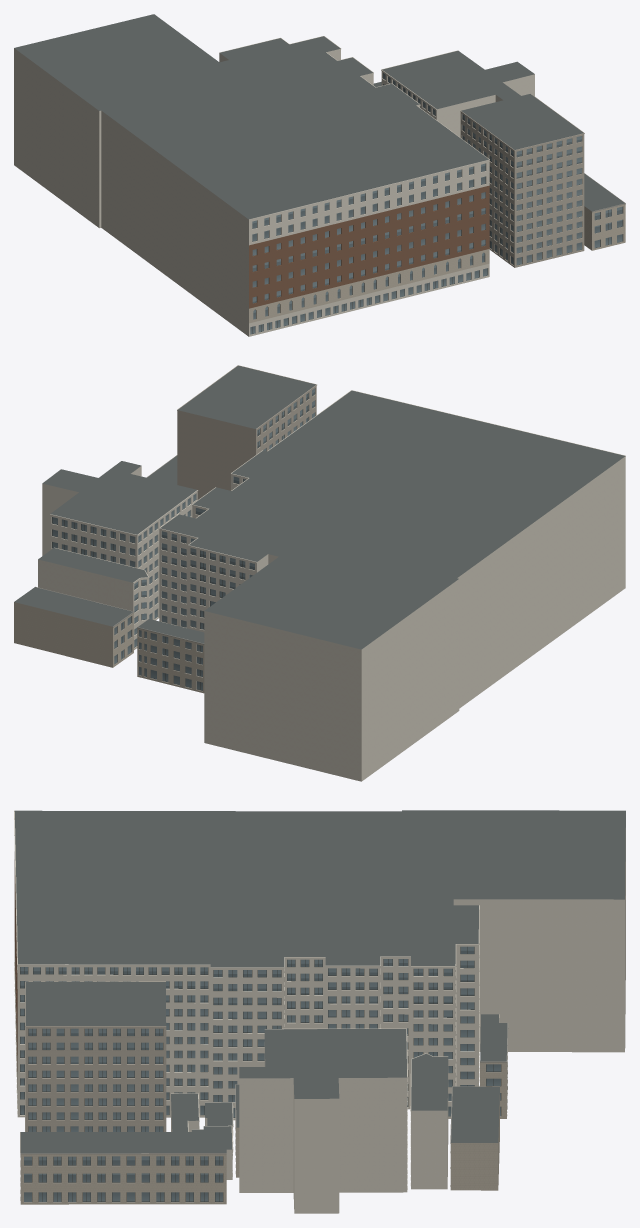
File: near.gltf
The picture shows the model from 3 angles, top to bottom: view 1: azimuth 30°, elevation 25°; view 2: azimuth 150°, elevation 25°; view 3: azimuth 270°, elevation 25°; orthographic projection. The views are drawn at different scales.
Visible parts, largest first — view 1: cell-e002-n000_near_roof, cell-e002-n000_near_plaster, cell-e002-n000_near_daimaru-brown-tile, cell-e002-n000_near_glass, cell-e002-n000_near_tile-wall, cell-e002-n000_near_stone, cell-e002-n000_near_frame; view 2: cell-e002-n000_near_roof, cell-e002-n000_near_plaster, cell-e002-n000_near_stone, cell-e002-n000_near_glass, cell-e002-n000_near_tile-wall, cell-e002-n000_near_frame, cell-e002-n000_near_granite; view 3: cell-e002-n000_near_roof, cell-e002-n000_near_plaster, cell-e002-n000_near_glass, cell-e002-n000_near_tile-wall, cell-e002-n000_near_stone, cell-e002-n000_near_frame, cell-e002-n000_near_granite.
Boxes of the visible parts, x1,y1,x2,y2 form: cell-e002-n000_near_roof: [14, 14, 624, 219]; cell-e002-n000_near_plaster: [14, 36, 534, 336]; cell-e002-n000_near_daimaru-brown-tile: [249, 185, 489, 308]; cell-e002-n000_near_glass: [250, 73, 622, 334]; cell-e002-n000_near_tile-wall: [460, 93, 584, 267]; cell-e002-n000_near_stone: [249, 204, 625, 323]; cell-e002-n000_near_frame: [252, 73, 622, 334]; cell-e002-n000_near_roof: [14, 365, 624, 649]; cell-e002-n000_near_plaster: [38, 390, 625, 781]; cell-e002-n000_near_stone: [14, 602, 204, 693]; cell-e002-n000_near_glass: [52, 388, 314, 690]; cell-e002-n000_near_tile-wall: [177, 365, 316, 499]; cell-e002-n000_near_frame: [52, 393, 314, 690]; cell-e002-n000_near_granite: [35, 455, 204, 691]; cell-e002-n000_near_roof: [14, 810, 625, 1153]; cell-e002-n000_near_plaster: [14, 810, 625, 1213]; cell-e002-n000_near_glass: [20, 946, 500, 1201]; cell-e002-n000_near_tile-wall: [25, 981, 499, 1131]; cell-e002-n000_near_stone: [14, 942, 507, 1204]; cell-e002-n000_near_frame: [20, 947, 501, 1201]; cell-e002-n000_near_granite: [20, 1023, 508, 1202].
Bounding box in the file's own units: 118 × 33.64 × 122.
8 materials, 6 textured.
